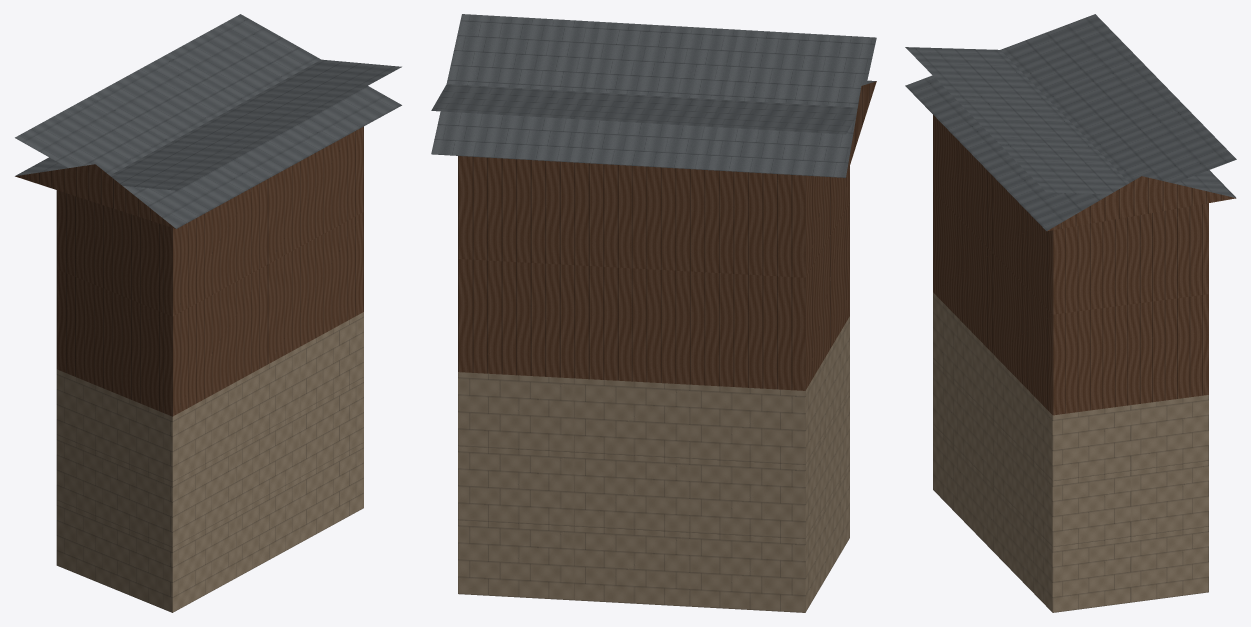
The model's file is bld_c9_25_406.gltf.
The picture shows the model from 3 angles, left to right: view 1: azimuth 30°, elevation 25°; view 2: azimuth 150°, elevation 25°; view 3: azimuth 270°, elevation 25°; orthographic projection. The views are drawn at different scales.
Parts seen in each view (by area): view 1: bld_c9_25_406; view 2: bld_c9_25_406; view 3: bld_c9_25_406.
Boxes of the visible parts, x1,y1,x2,y2 form: bld_c9_25_406: (15,14,401,612); bld_c9_25_406: (431,14,876,612); bld_c9_25_406: (905,14,1236,612).
Size of the model in its own units: 9.89 by 11.3 by 7.77.
Materials: 4 (4 with a texture image).
